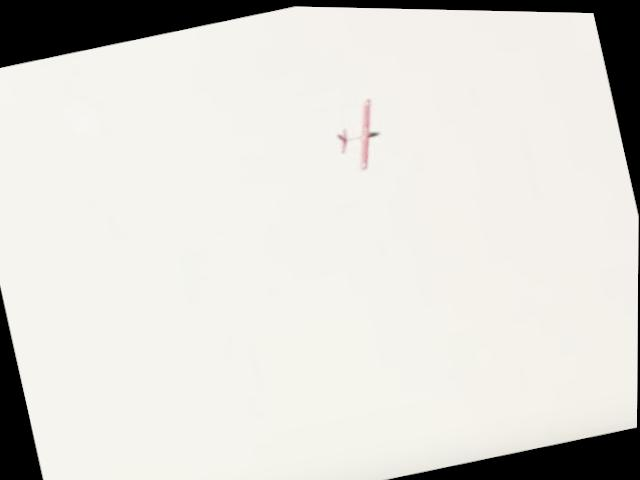uav: (326, 87, 391, 175)
